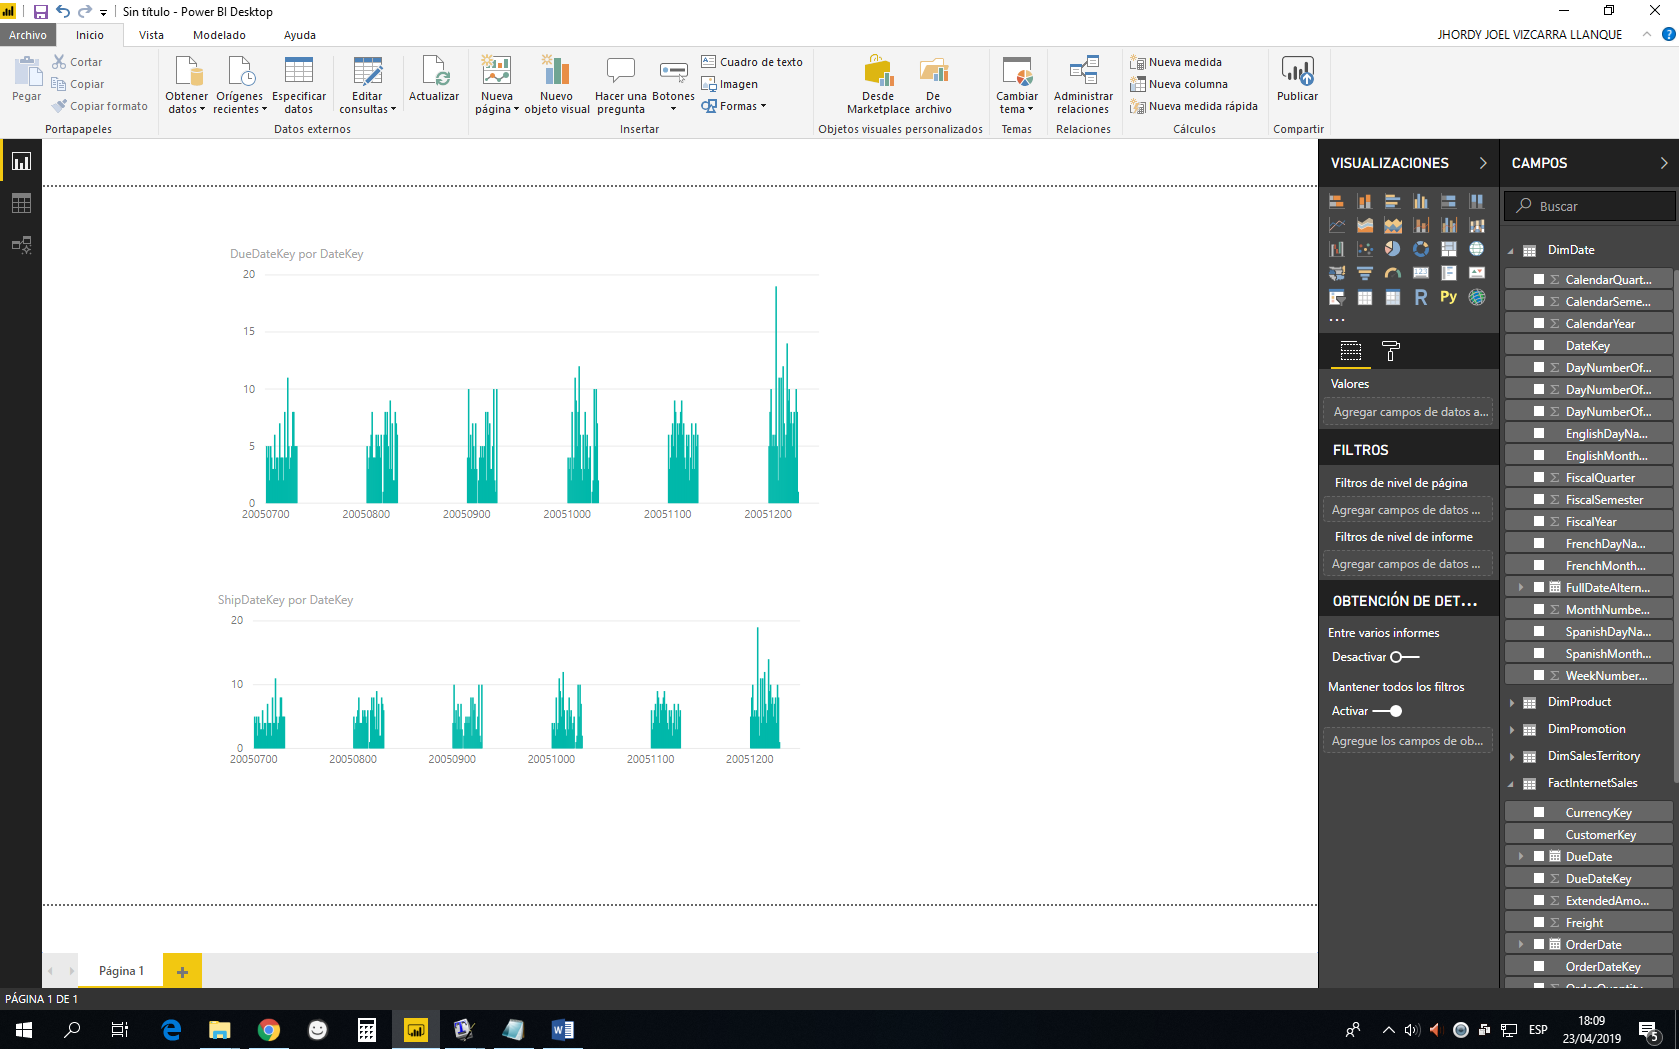

Layout of this report page (visuals, bound fields, positions):
{"tool":"powerbi","page":{"name":"Página 1","canvas":[1280,720],"ordinal":0},"visuals":[{"type":"clusteredColumnChart","fields":{"Y":["CountNonNull(FactInternetSales.DueDateKey)"],"Category":["DimDate.DateKey"]},"box":[183.6,58.2,626,287.9],"z":1},{"type":"clusteredColumnChart","fields":{"Y":["CountNonNull(FactInternetSales.ShipDateKey)"],"Category":["DimDate.DateKey"]},"box":[171.5,405.3,618.9,186.6],"z":2}]}

Visuals, with their boxes on the page's 1280x720 design canvas (x1, y1, x2, y2). These are canvas units, not pixel positions in the 1679x1049 screenshot, which may show the page scaled, cropped or inside an application window:
clusteredColumnChart - CountNonNull(FactInternetSales.DueDateKey) x DimDate.DateKey: box(184, 58, 810, 346)
clusteredColumnChart - CountNonNull(FactInternetSales.ShipDateKey) x DimDate.DateKey: box(172, 405, 790, 592)
